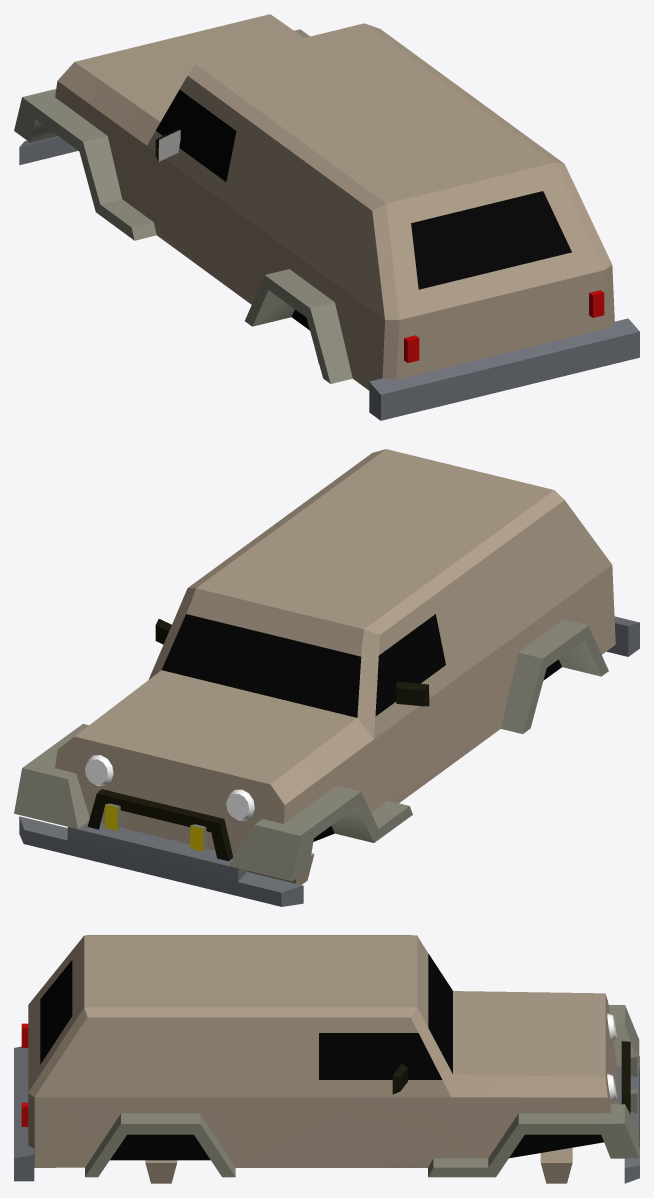
Rendered from military_veh3.fbx.
The picture shows the model from 3 angles, top to bottom: view 1: azimuth 30°, elevation 25°; view 2: azimuth 150°, elevation 25°; view 3: azimuth 270°, elevation 25°; orthographic projection. The views are drawn at different scales.
Parts seen in each view (by area): view 1: military_veh3; view 2: military_veh3; view 3: military_veh3.
Boxes of the visible parts, bbox=[...] form: military_veh3: bbox=[14, 14, 639, 420]; military_veh3: bbox=[14, 449, 639, 906]; military_veh3: bbox=[14, 935, 639, 1183].
Size of the model in its own units: 245 by 159 by 534.
